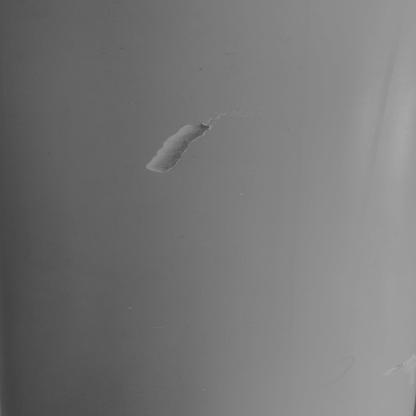sunshang: (142, 114, 225, 176)
